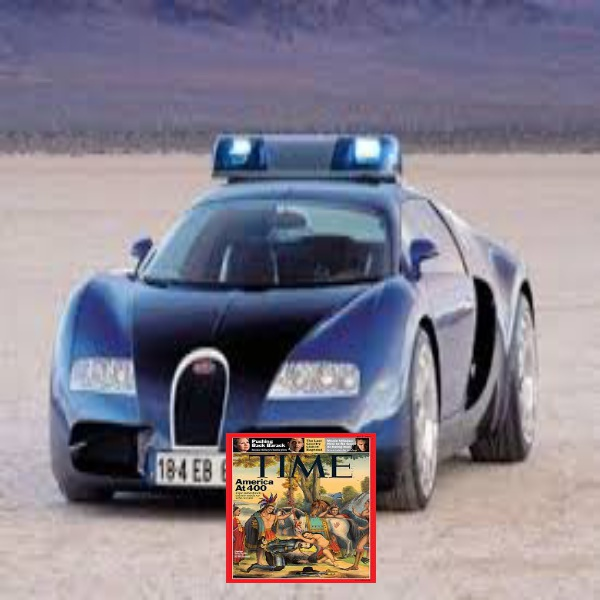time_cover: (221, 427, 380, 587)
